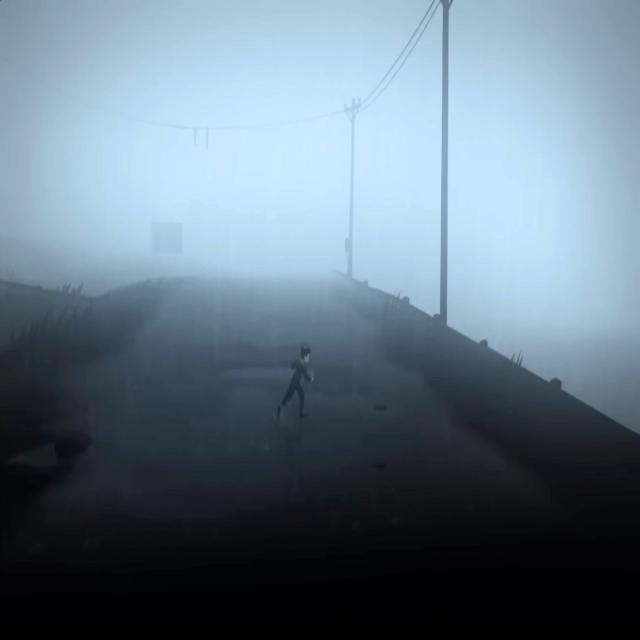boy: (278, 344, 312, 419)
